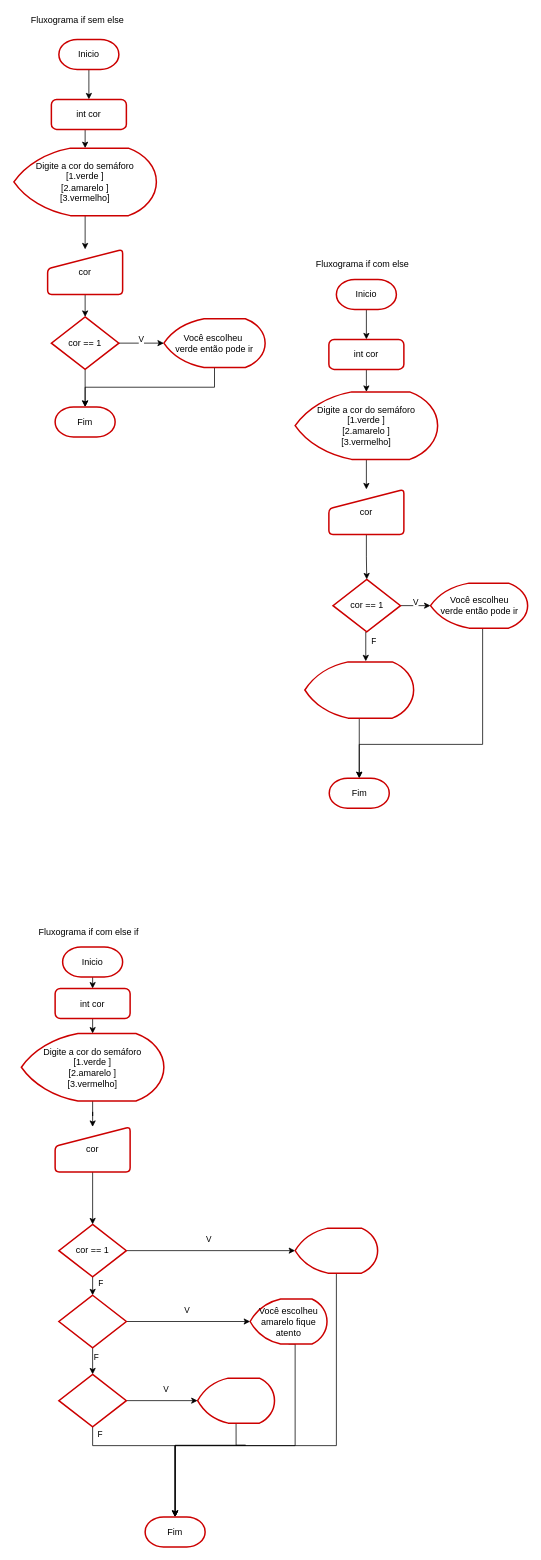
Some shapes in this 541 by 1560 pixel diagram are drawn without their labels. The centre of each missing label's shape, as x and y in pixels:
"cor == 2" goes at point 92,1321.
"cor == 3" goes at point 92,1400.
"Você escolheu verde pode ir" goes at point 336,1250.
"Você escolheu vermelho espere" goes at point 235,1400.
"Você não escolheu verde então não pode ir" goes at point 359,689.
